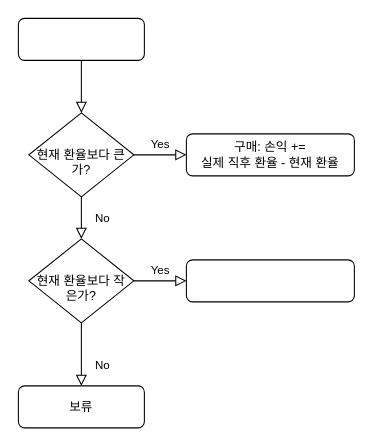
Some shapes in this 373 by 446 pixel diagram are drawn without their labels. The shapes that lost their labels are listed below. From the top down, each one's centre as x and y in pixels, then its label:
At [80,38]: "직후 환율 예측".
At [269,280]: "판매: 손익 += 실제 직후 환율 - 현재 환율".
